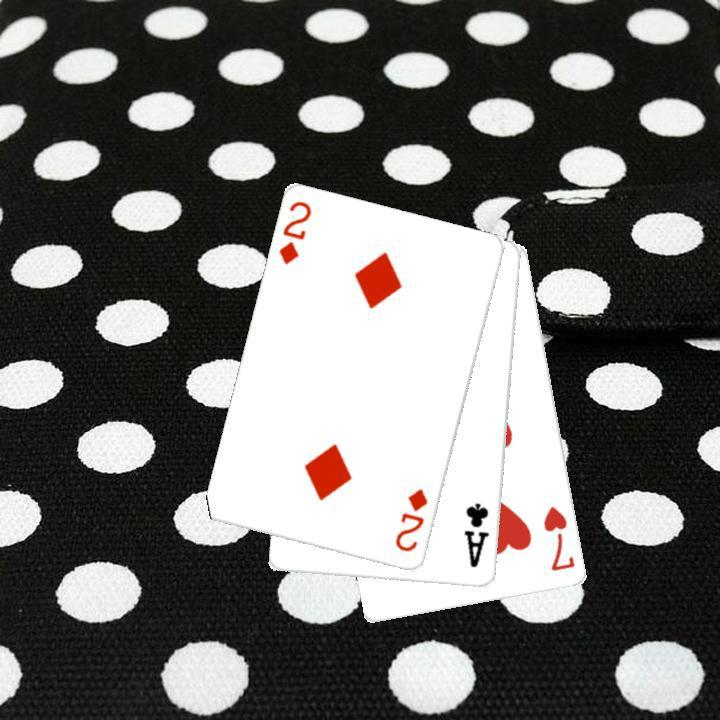2: (391, 485, 430, 555), (275, 197, 314, 267)
7: (539, 502, 577, 574)
A: (460, 499, 492, 570)
